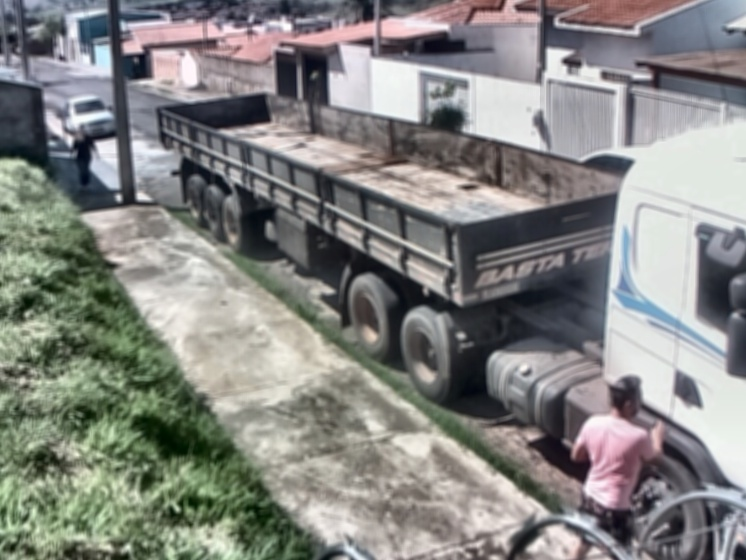person: (567, 373, 673, 560), (68, 122, 102, 193)
